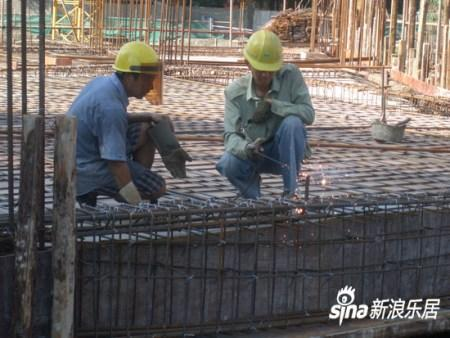helmet: (113, 42, 164, 78), (243, 30, 286, 72)
